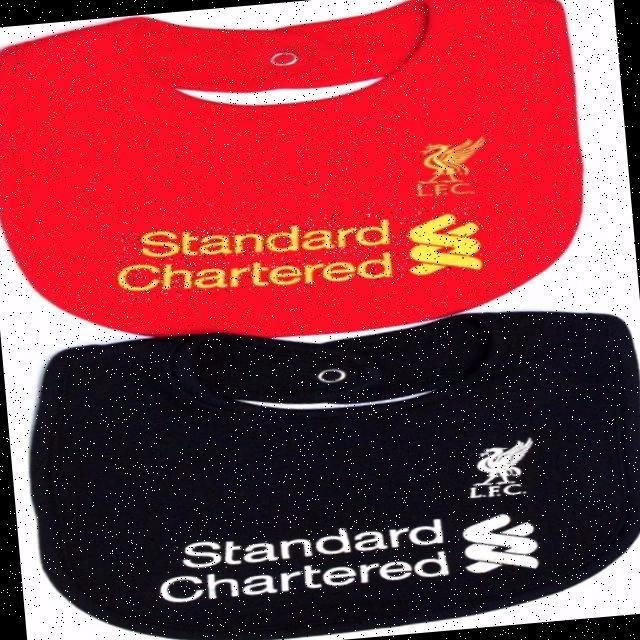Standard Chartered: (113, 201, 486, 302), (155, 511, 541, 604)
